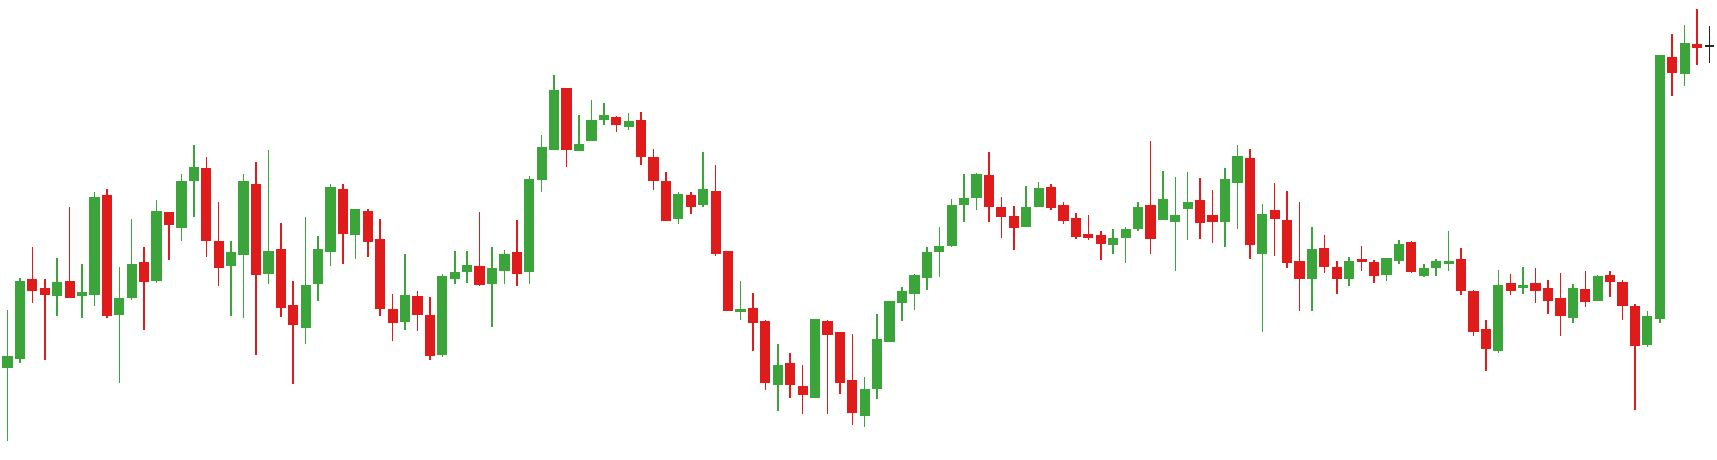buy: (1479, 292, 1643, 411), (39, 230, 124, 388), (772, 336, 873, 435)
sell: (187, 71, 573, 240)
